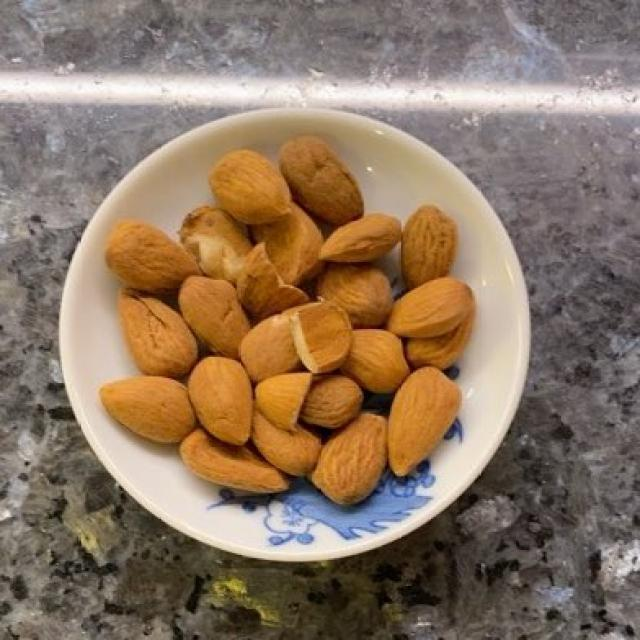almonds: (110, 142, 466, 502)
